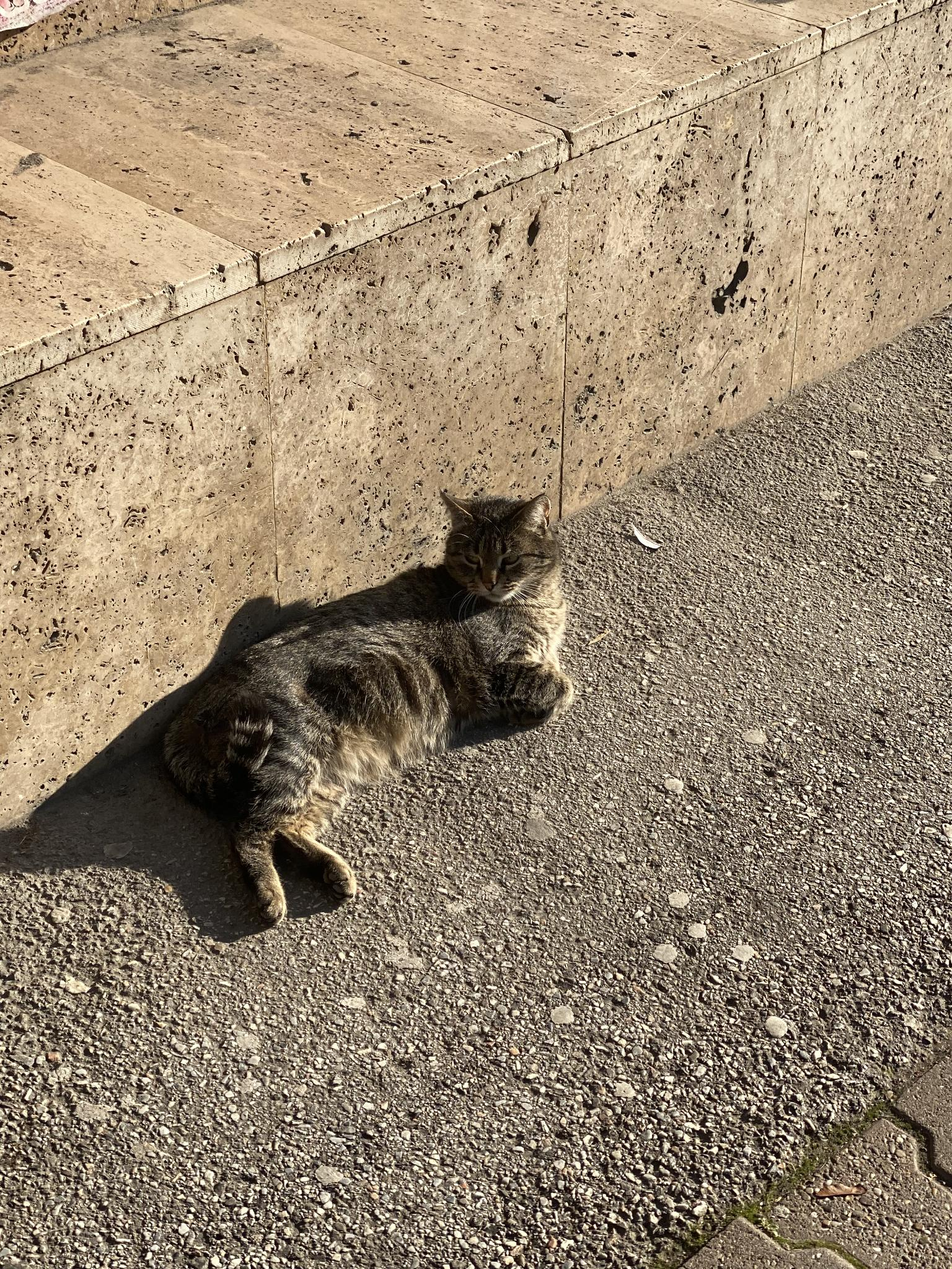macka: (164, 489, 578, 927)
